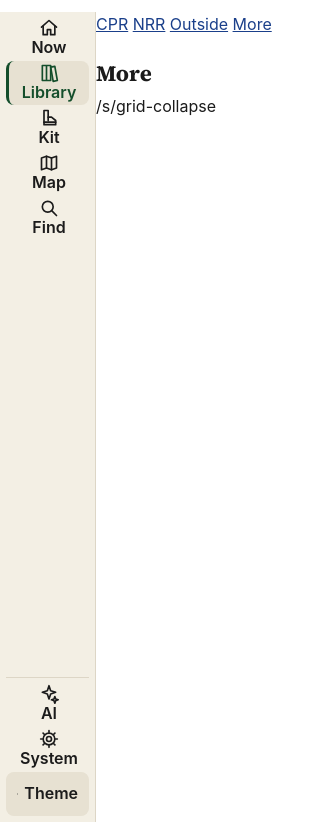
Test: Html › keeps the #page fragment on doc links
Click the link with id "doc" at (149, 24), box [133,14,165,34]
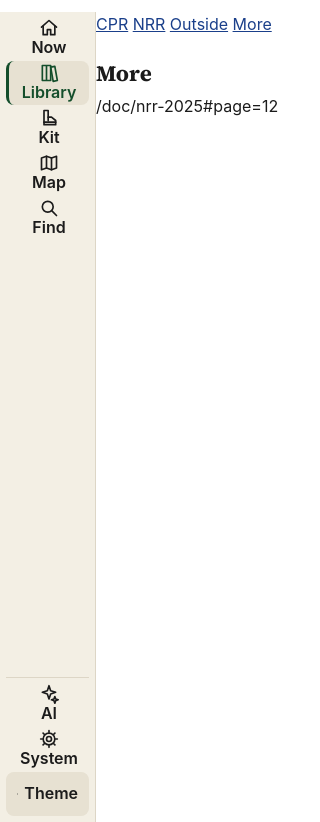
Result: the text with test id "where" reads "/doc/nrr-2025#page=12" at [96,96,278,116]
